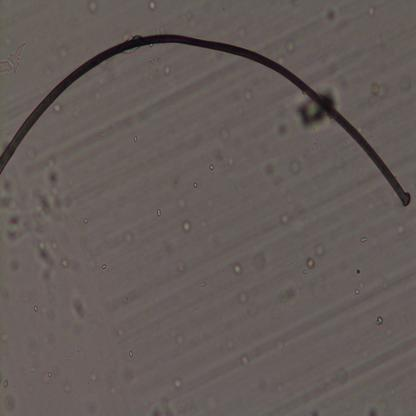Background material: (0, 167, 72, 270), (34, 233, 68, 279), (293, 99, 325, 132), (0, 40, 26, 79), (258, 153, 282, 187), (211, 147, 237, 169), (368, 80, 392, 102), (70, 295, 89, 321), (5, 214, 21, 242), (275, 119, 290, 144), (395, 69, 412, 91), (324, 5, 340, 28), (147, 49, 159, 78), (288, 156, 303, 178), (251, 251, 267, 269), (116, 228, 134, 244), (335, 364, 349, 384), (2, 394, 17, 412), (86, 0, 100, 19), (179, 216, 192, 236), (270, 379, 286, 394), (394, 222, 407, 238), (10, 256, 21, 274), (41, 370, 55, 384), (84, 371, 98, 385), (218, 126, 230, 142), (362, 3, 376, 16), (374, 314, 386, 329), (239, 352, 251, 367), (279, 210, 290, 226), (241, 88, 253, 102), (175, 259, 187, 273), (235, 24, 247, 38), (366, 404, 380, 416), (239, 291, 250, 306), (232, 263, 243, 278), (315, 244, 325, 260), (176, 197, 186, 213), (304, 258, 316, 271), (379, 278, 391, 291), (147, 0, 158, 14), (284, 39, 294, 54), (58, 46, 70, 58), (279, 290, 290, 303), (52, 102, 62, 116), (120, 293, 130, 307), (115, 324, 124, 339), (162, 64, 172, 77), (173, 377, 182, 390), (176, 334, 185, 346), (100, 262, 108, 274), (63, 386, 72, 396), (126, 348, 133, 360), (156, 206, 162, 219), (354, 287, 361, 298), (64, 354, 72, 363), (1, 379, 9, 388), (360, 236, 368, 244), (199, 280, 206, 288), (80, 218, 89, 224), (193, 180, 198, 190), (209, 162, 214, 172), (29, 366, 35, 372), (34, 306, 39, 313), (356, 267, 361, 274), (219, 24, 224, 30), (132, 135, 136, 142)
Microfibre: (0, 33, 416, 210)
